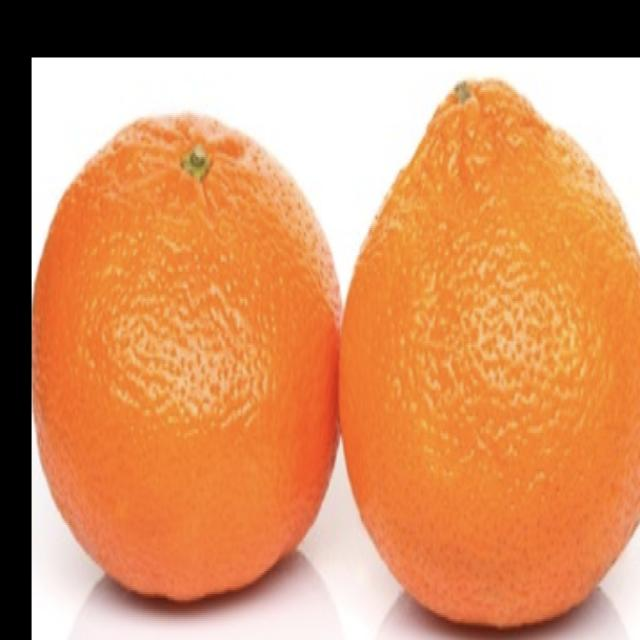orange: (347, 74, 639, 640), (37, 114, 346, 606)
